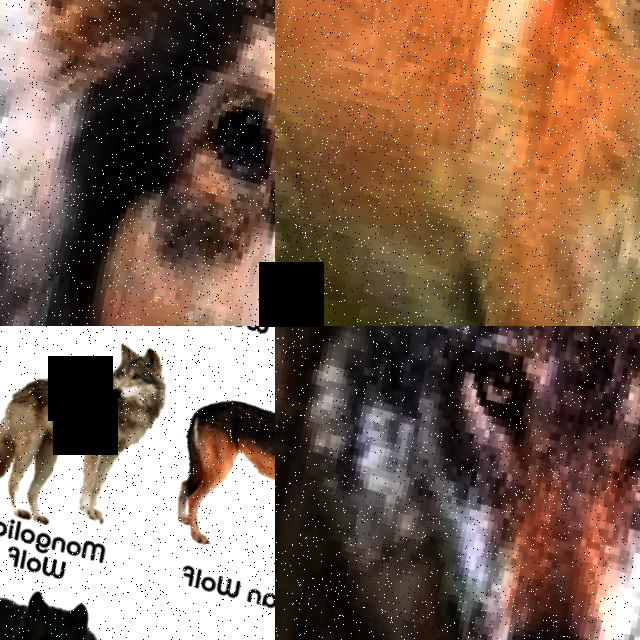dog: (275, 0, 640, 326), (0, 0, 275, 326)
wolf: (275, 326, 640, 640), (0, 326, 203, 558), (145, 357, 275, 599)
